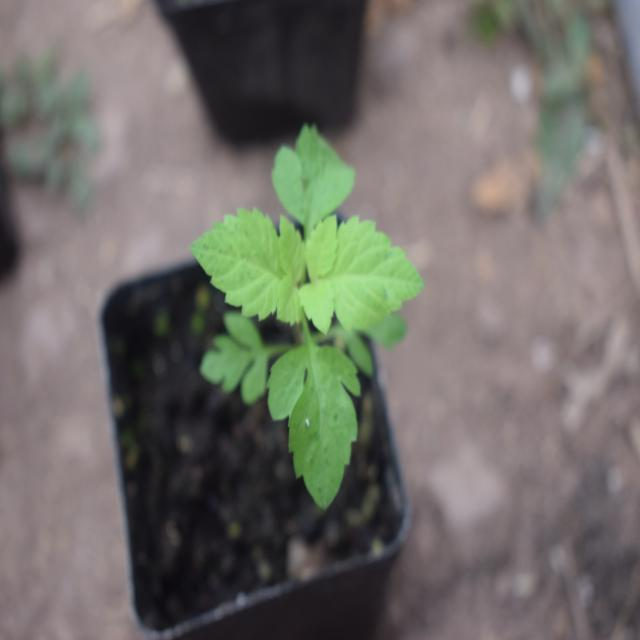Bidens pilosa: (192, 116, 428, 504)
